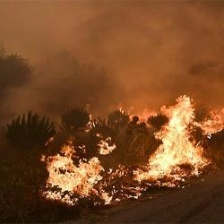fire: (36, 96, 224, 207)
smoke: (30, 4, 224, 87)
